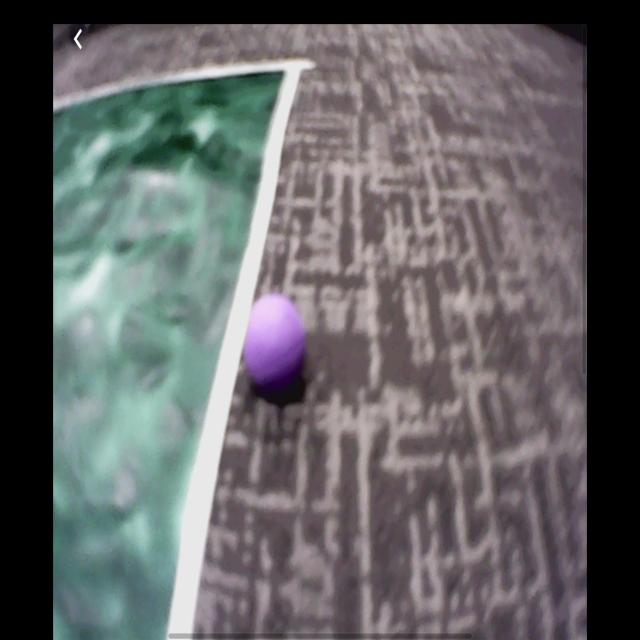ball: (247, 299, 310, 390)
